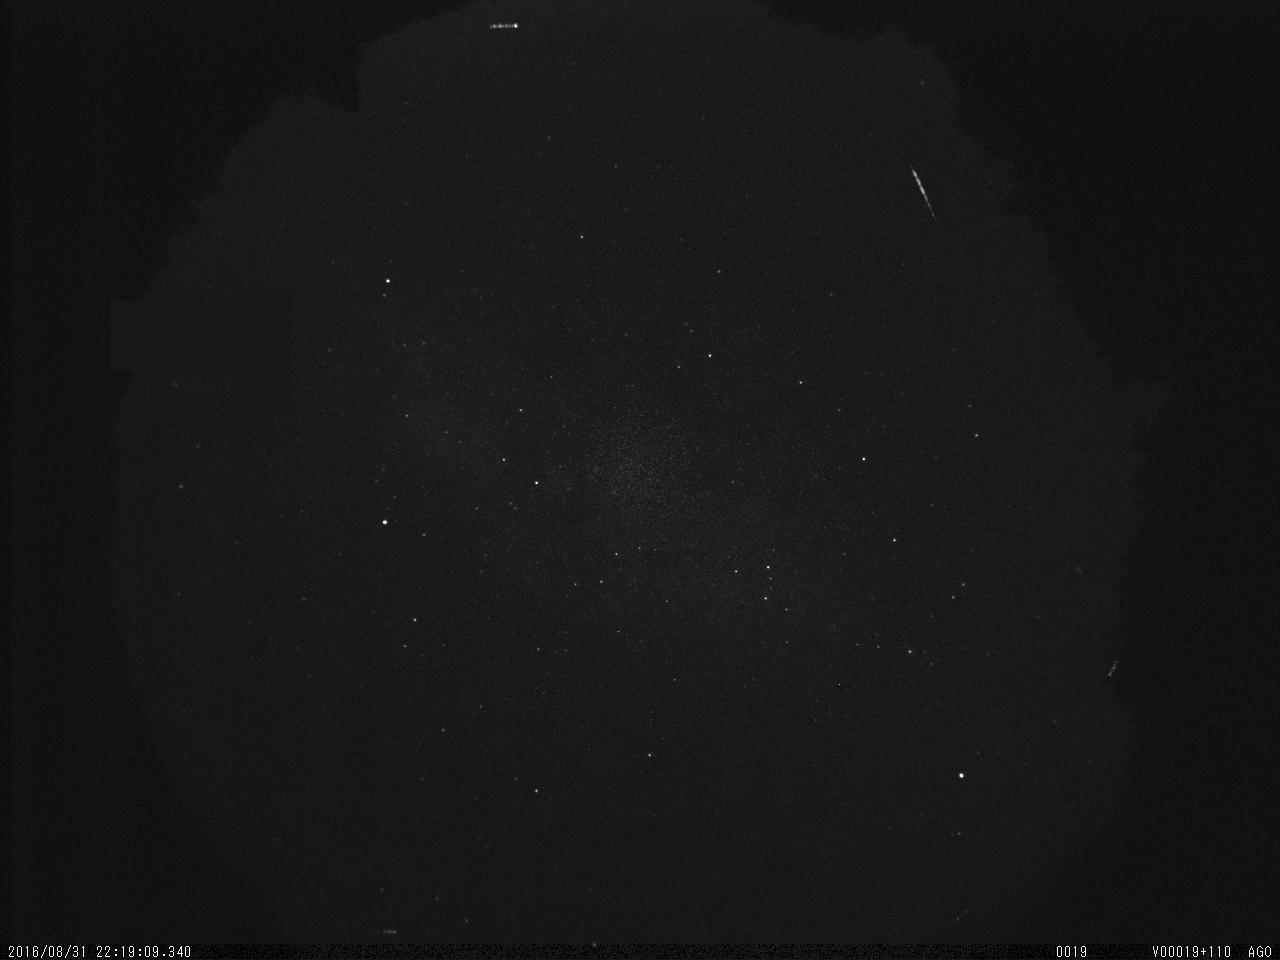Meteor: (908, 164, 937, 222)
